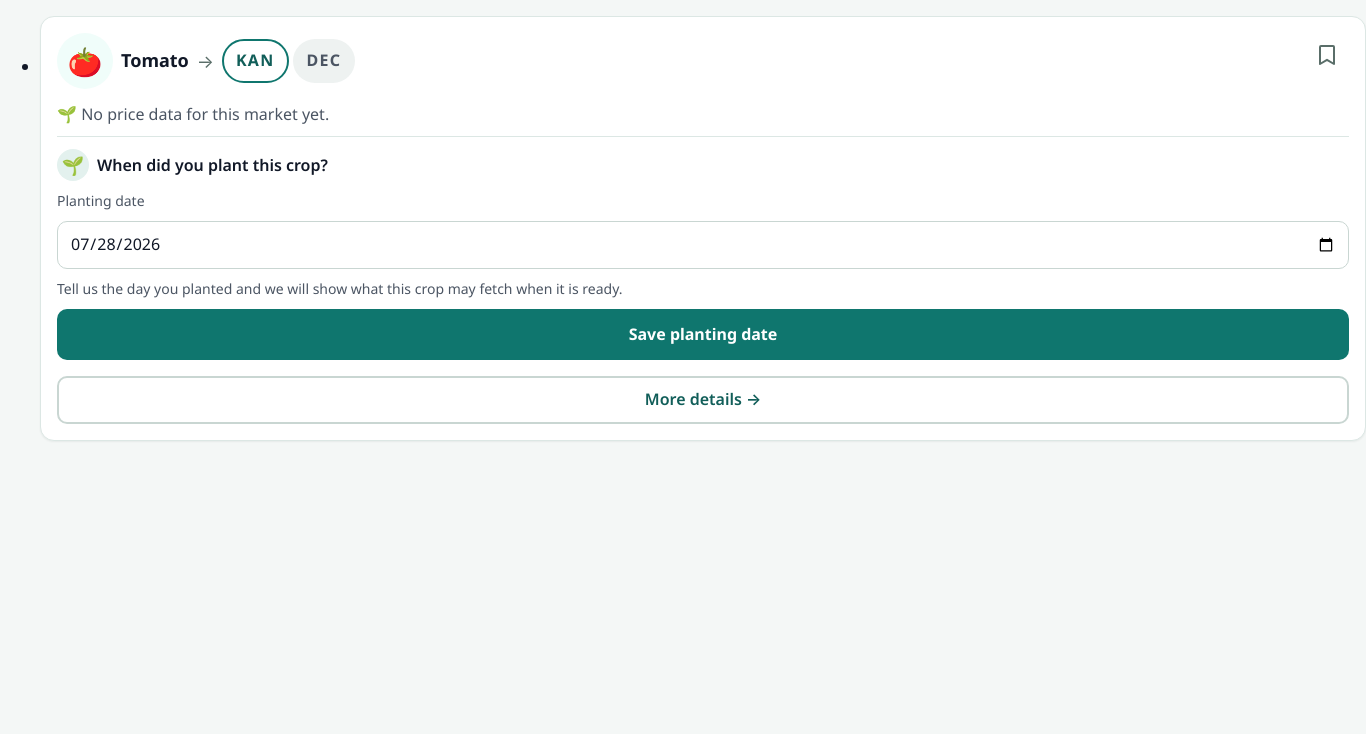
Test: WatchlistCard — a tab switch moves the WHOLE market-scoped block › never labels an EMPTY tabpanel: the no-price note goes inside the region
expect the text "No price data for this market yet." is shown: met, box x1=81 y1=103 x2=329 y2=125
Click the tab with aria-label "Dambulla Dedicated Economic Centre (DEC)" at (324, 61), box x1=292 y1=39 x2=355 y2=83
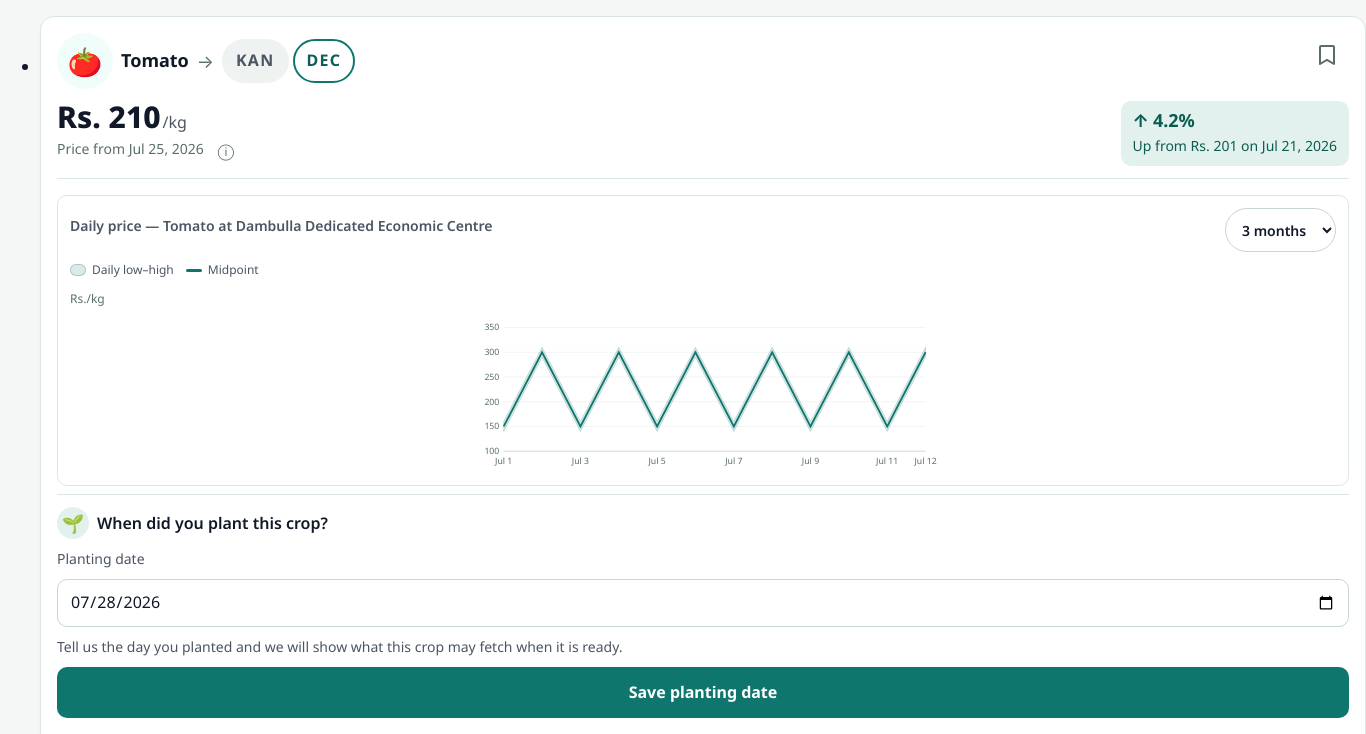
expect the text "Rs. 210" is shown: met, box x1=57 y1=101 x2=161 y2=132
expect the text "No price data for this market yet." is gone: met
